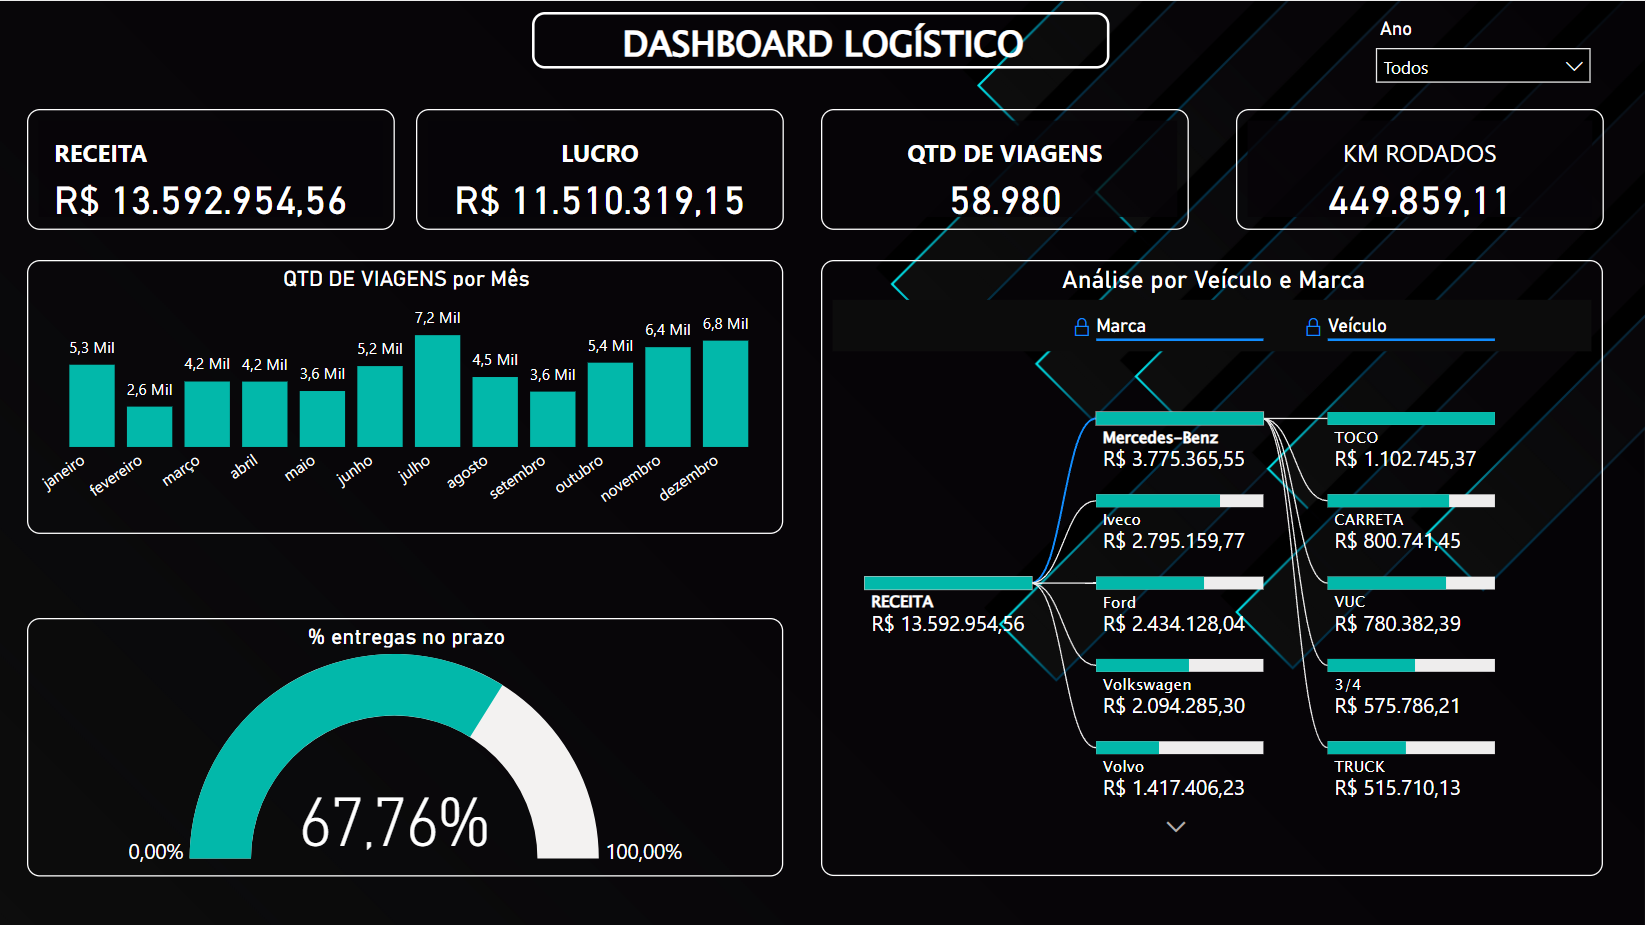

The page's visual inventory and layout, read from the dashboard file:
{"tool":"powerbi","page":{"name":"Página 2","canvas":[1280,720],"ordinal":0},"visuals":[{"type":"cardVisual","fields":{"Data":["Frete.RECEITA"]},"box":[22.8,84.3,286.2,94],"z":0},{"type":"cardVisual","fields":{"Data":["Frete.LUCRO"]},"box":[324.9,84.3,286.2,94],"z":1000},{"type":"cardVisual","fields":{"Data":["Frete.KM RODADOS"]},"box":[962.3,84.3,286.2,94],"z":2000},{"type":"cardVisual","fields":{"Data":["Frete.QTD DE VIAGENS"]},"box":[640.1,84.3,286.2,94],"z":3000},{"type":"columnChart","fields":{"Y":["Frete.QTD DE VIAGENS"],"Category":["Frete.Data Entrega.Variation.Hierarquia de datas.Mês"]},"box":[22.8,201.1,588.3,213.4],"z":4000},{"type":"gauge","fields":{"Y":["Frete.% entregas no prazo"]},"box":[22.8,479.4,588.3,201.1],"z":5000},{"type":"decompositionTreeVisual","title":"Análise por Veículo e Marca","fields":{"Analyze":["Frete.RECEITA"],"ExplainBy":["Frete.Marca","Frete.Veículo"]},"box":[640.1,201.1,608.5,479.4],"z":6000},{"type":"slicer","fields":{"Values":["Frete.Data Entrega.Variation.Hierarquia de datas.Ano","Frete.Data Entrega.Variation.Hierarquia de datas.Mês"]},"box":[1061.6,8.8,187,65.9],"z":7000},{"type":"cardVisual","title":"DASHBOARD LOGÍSTICO","fields":{"Data":["Frete.CUSTO"]},"box":[415.3,8.8,448.7,43.9],"z":7001}]}

Visuals, with their boxes in screenshot pixels (x1, y1, x2, y2), scaled from the page's 1280x720 canvas onto the 1646x925 screenshot:
cardVisual - Frete.RECEITA: select_region(29, 108, 397, 229)
cardVisual - Frete.LUCRO: select_region(418, 108, 786, 229)
cardVisual - Frete.KM RODADOS: select_region(1237, 108, 1605, 229)
cardVisual - Frete.QTD DE VIAGENS: select_region(823, 108, 1191, 229)
columnChart - Frete.QTD DE VIAGENS x Frete.Data Entrega.Variation.Hierarquia de datas.Mês: select_region(29, 258, 786, 533)
gauge - Frete.% entregas no prazo: select_region(29, 616, 786, 874)
"Análise por Veículo e Marca" decompositionTreeVisual: select_region(823, 258, 1606, 874)
slicer - Frete.Data Entrega.Variation.Hierarquia de datas.Ano x Frete.Data Entrega.Variation.Hierarquia de datas.Mês: select_region(1365, 11, 1606, 96)
"DASHBOARD LOGÍSTICO" cardVisual: select_region(534, 11, 1111, 68)
